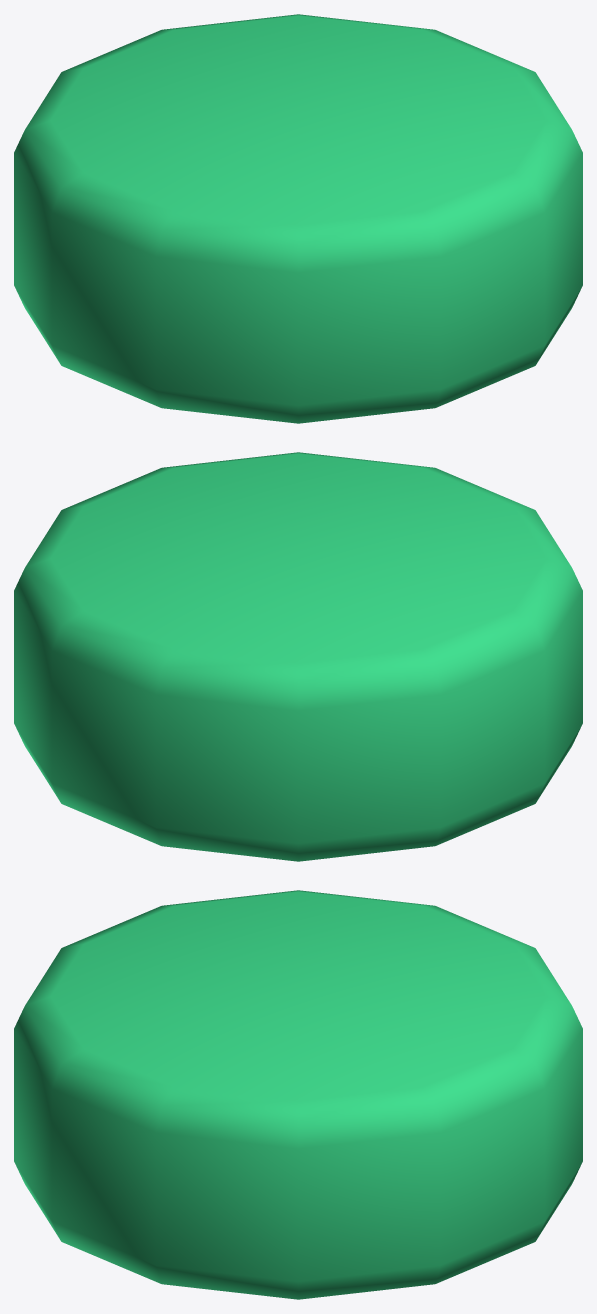
The model's file is Candy_03.fbx.
3 renders of one model, top to bottom at view 1: azimuth 30°, elevation 25°; view 2: azimuth 150°, elevation 25°; view 3: azimuth 270°, elevation 25°, orthographic.
Visible parts, largest first — view 1: Candy_03_Mesh; view 2: Candy_03_Mesh; view 3: Candy_03_Mesh.
Boxes of the visible parts, x1,y1,x2,y2 form: Candy_03_Mesh: [14, 14, 582, 423]; Candy_03_Mesh: [14, 452, 582, 861]; Candy_03_Mesh: [14, 890, 582, 1299].
Bounding box in the file's own units: 1.44 × 0.55 × 1.44.
